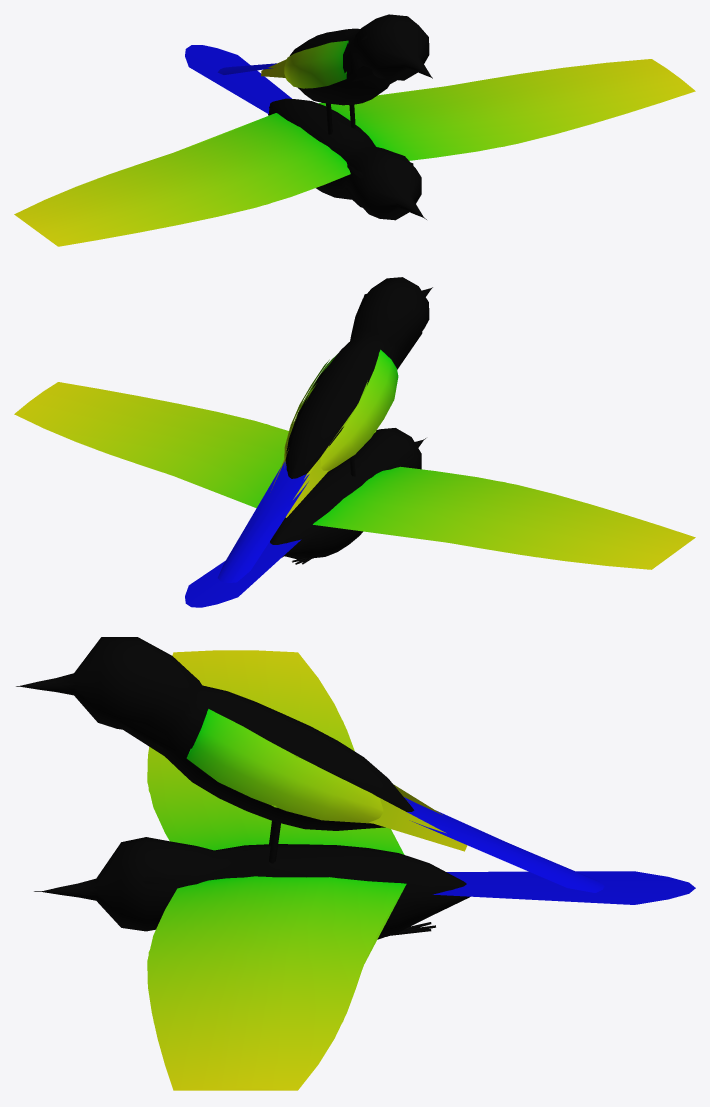
The model's file is bulbul.glb.
3 renders of one model, top to bottom at view 1: azimuth 30°, elevation 25°; view 2: azimuth 150°, elevation 25°; view 3: azimuth 270°, elevation 25°, orthographic. The views are drawn at different scales.
Parts seen in each view (by area): view 1: fly0, stand0, stand1, fly1; view 2: fly0, stand0, stand1; view 3: fly0, stand0, stand1, fly1.
Part boxes in pixels (box(x1,y1,x2,y2)): fly0: box(14, 45, 695, 246); stand0: box(217, 14, 431, 134); stand1: box(261, 34, 432, 133); fly1: box(19, 71, 536, 243); fly0: box(14, 382, 695, 607); stand0: box(217, 277, 431, 582); stand1: box(271, 287, 432, 517); fly0: box(42, 650, 695, 1090); stand0: box(19, 637, 604, 892); stand1: box(16, 675, 467, 863); fly1: box(41, 720, 496, 1090).
Size of the model in its own units: 0.28 by 0.0907 by 0.1842.
